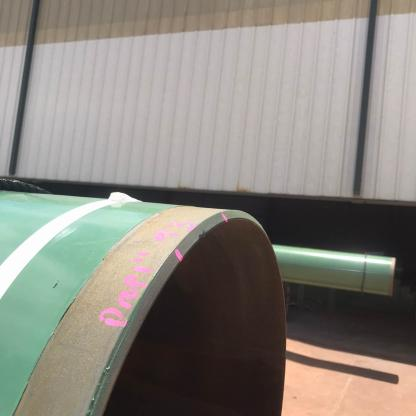Bevel: (193, 224, 211, 244)
